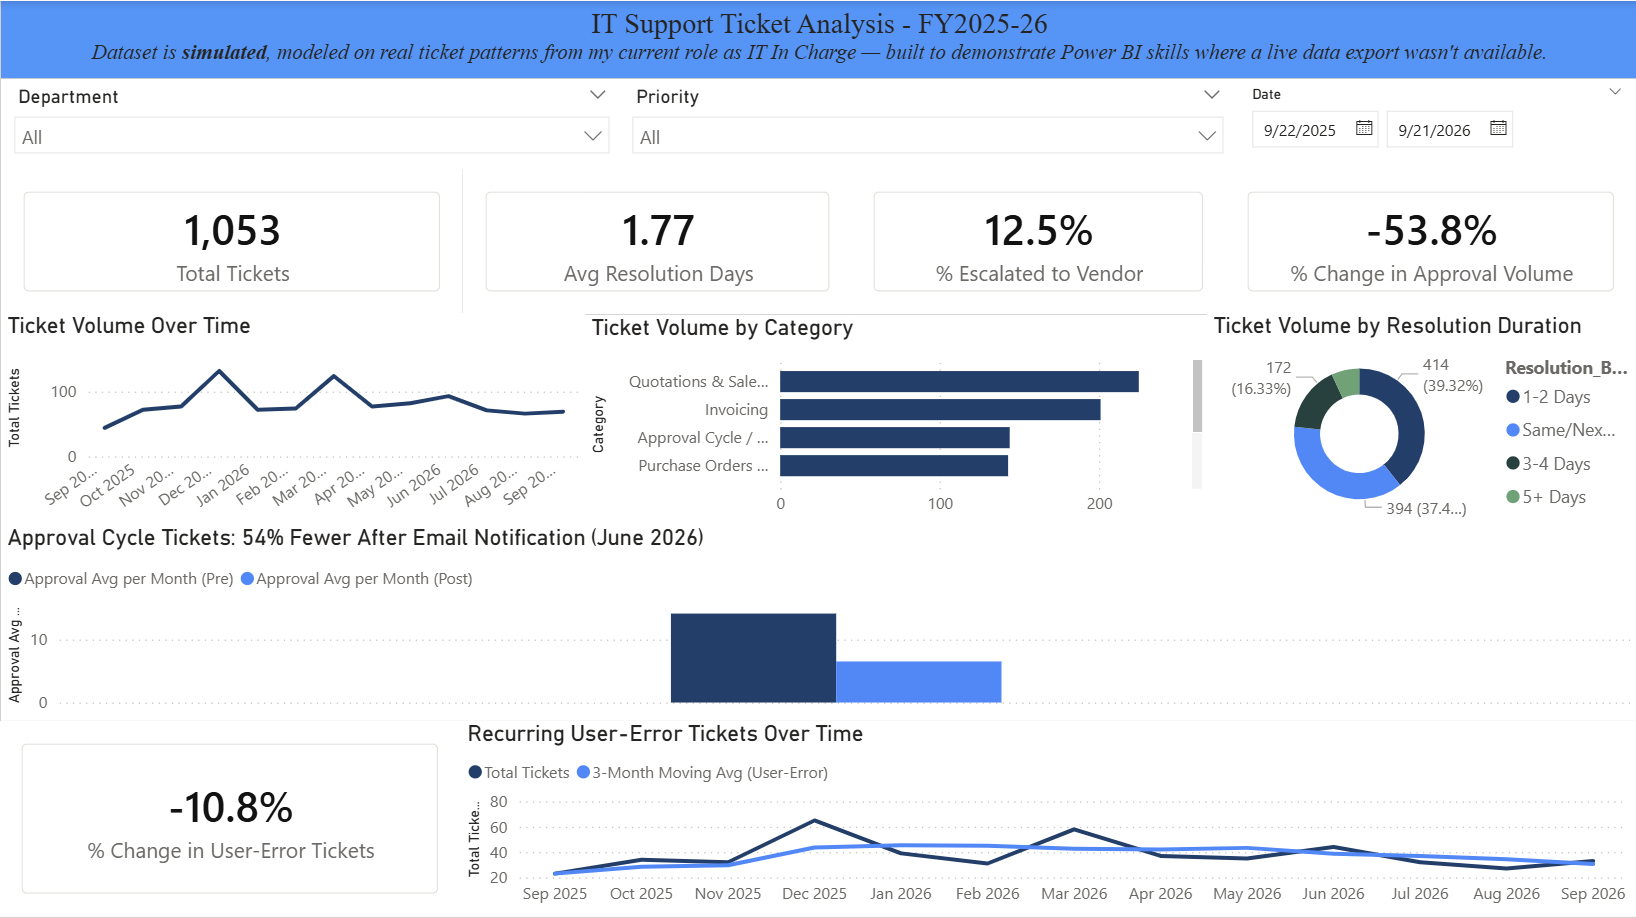

Layout of this report page (visuals, bound fields, positions):
{"tool":"powerbi","page":{"name":"Page 1","canvas":[1280,720],"ordinal":0},"visuals":[{"type":"cardVisual","fields":{"Data":["Tickets.Total Tickets"]},"box":[0,68.2,357.9,121.3],"z":0},{"type":"cardVisual","fields":{"Data":["Tickets.Avg Resolution Days"]},"box":[357.9,69.8,307.9,119.8],"z":1000},{"type":"cardVisual","fields":{"Data":["Tickets.% Escalated to Vendor"]},"box":[667.3,68.2,307.9,121.3],"z":2000},{"type":"cardVisual","fields":{"Data":["Tickets.% Change in Approval Volume"]},"box":[972.1,68.2,307.9,121.3],"z":3000},{"type":"lineChart","fields":{"Category":["DateTable.MonthYear"],"Y":["Tickets.Total Tickets"]},"box":[0,206.3,667.3,168.3],"z":4000},{"type":"clusteredBarChart","fields":{"Category":["Tickets.Category"],"Y":["Tickets.Total Tickets"]},"box":[665.8,206.3,612.7,169.9],"z":5000},{"type":"clusteredColumnChart","title":"Approval Cycle Tickets: Before vs After Email Notification (June 2026)","fields":{"Y":["Tickets.Approval Avg per Month (Pre)","Tickets.Approval Avg per Month (Post)"]},"box":[357.9,374.6,922.1,159.2],"z":6000},{"type":"lineChart","title":"Recurring User-Error Tickets Over Time","fields":{"Category":["DateTable.MonthYear"],"Y":["Tickets.Total Tickets","Tickets.3-Month Moving Avg (User-Error)"]},"box":[0,542.9,640,177.4],"z":7000},{"type":"donutChart","fields":{"Category":["Tickets.Resolution_Bucket"],"Y":["Tickets.Total Tickets"]},"box":[640,543,640,177],"z":8000},{"type":"cardVisual","fields":{"Data":["Tickets.% Change in User-Error Tickets"]},"box":[0,374.6,357.9,159.2],"z":9000},{"type":"slicer","fields":{"Values":["Tickets.Department"]},"box":[0,0,492.9,68.2],"z":10000},{"type":"slicer","fields":{"Values":["Tickets.Priority"]},"box":[492.9,1.5,468.6,68.2],"z":11000},{"type":"slicer","fields":{"Values":["DateTable.Date"]},"box":[960,0,321.5,68.2],"z":12000}]}

Visuals, with their boxes in screenshot pixels (x1, y1, x2, y2), scaled from the page's 1280x720 canvas onto the 1636x918 screenshot:
cardVisual - Tickets.Total Tickets: bbox=[0, 87, 457, 242]
cardVisual - Tickets.Avg Resolution Days: bbox=[457, 89, 851, 242]
cardVisual - Tickets.% Escalated to Vendor: bbox=[853, 87, 1246, 242]
cardVisual - Tickets.% Change in Approval Volume: bbox=[1242, 87, 1635, 242]
lineChart - DateTable.MonthYear x Tickets.Total Tickets: bbox=[0, 263, 853, 478]
clusteredBarChart - Tickets.Category x Tickets.Total Tickets: bbox=[851, 263, 1634, 480]
"Approval Cycle Tickets: Before vs After Email Notification (June 2026)" clusteredColumnChart: bbox=[457, 478, 1635, 681]
"Recurring User-Error Tickets Over Time" lineChart: bbox=[0, 692, 818, 917]
donutChart - Tickets.Resolution_Bucket x Tickets.Total Tickets: bbox=[818, 692, 1635, 917]
cardVisual - Tickets.% Change in User-Error Tickets: bbox=[0, 478, 457, 681]
slicer - Tickets.Department: bbox=[0, 0, 630, 87]
slicer - Tickets.Priority: bbox=[630, 2, 1229, 89]
slicer - DateTable.Date: bbox=[1227, 0, 1635, 87]
